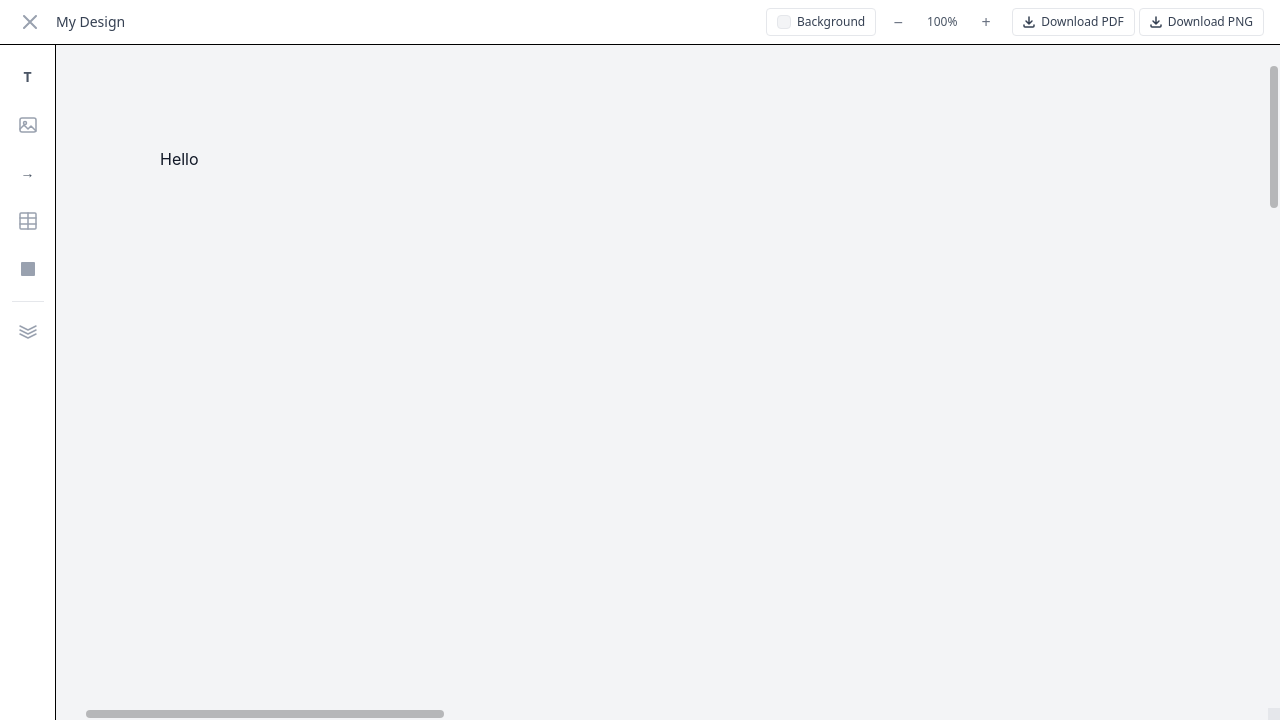
Test: AC11 — export failure handling › shows an "Export failed" alert when downloadPng rejects
Click the button "Download PNG": click(1201, 22) top-left (1139, 8), bottom-right (1264, 36)
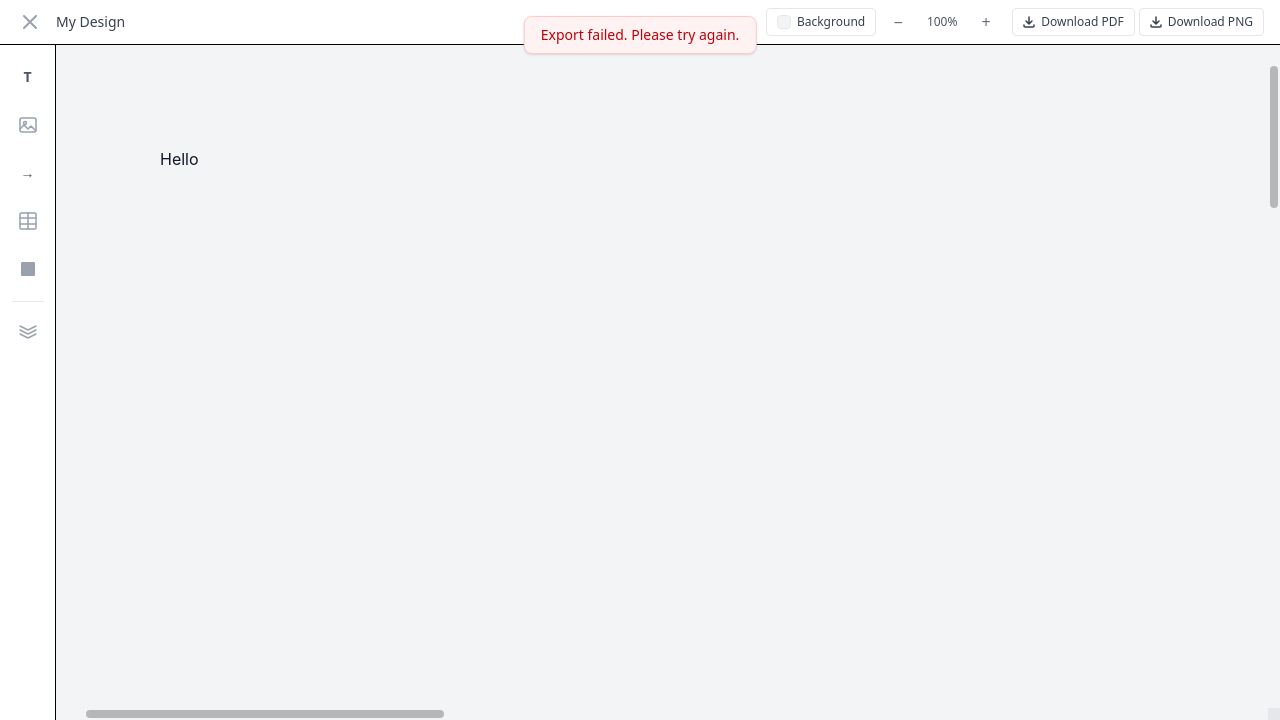
Now the message shows "Export failed", box top-left (541, 25), bottom-right (739, 44)
